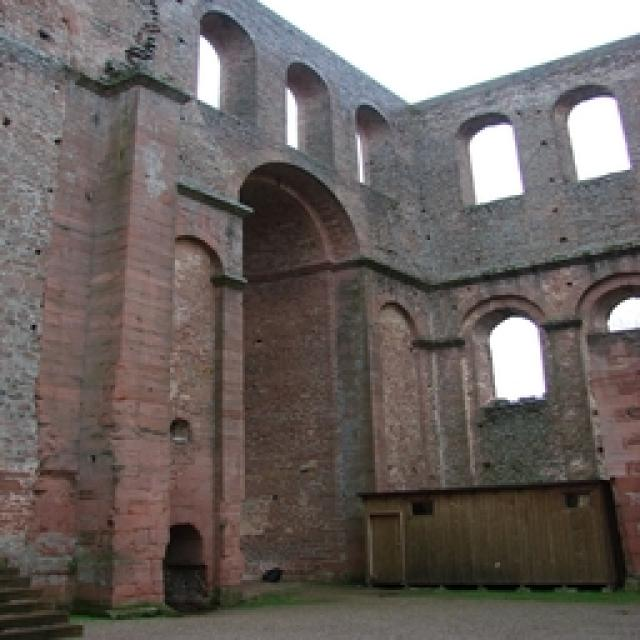Abbey: (105, 49, 399, 524)
